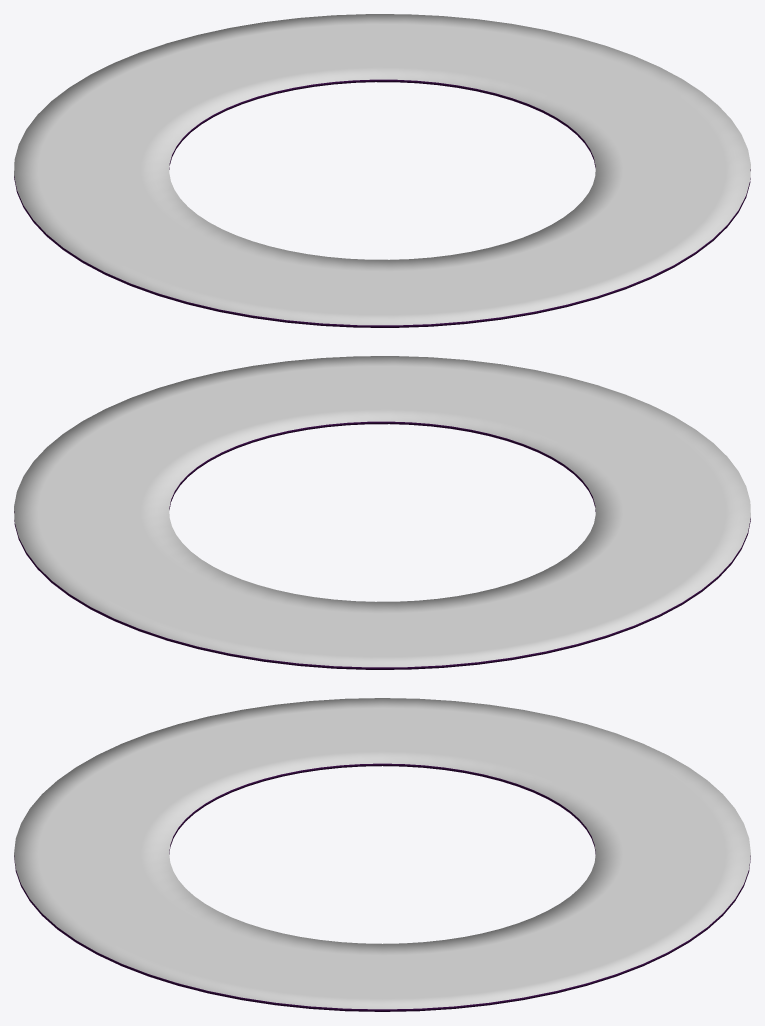
File: Proyecto - Anillo (mapa).fbx
3 views of the same model, one above another, from view 1: azimuth 30°, elevation 25°; view 2: azimuth 150°, elevation 25°; view 3: azimuth 270°, elevation 25° (orthographic).
Parts seen in each view (by area): view 1: Anillo 2; view 2: Anillo 2; view 3: Anillo 2.
Boxes of the visible parts, bbox=[...] form: Anillo 2: bbox=[14, 14, 750, 327]; Anillo 2: bbox=[14, 356, 750, 669]; Anillo 2: bbox=[14, 698, 750, 1011].
Bounding box in the file's own units: 18236 × 68.91 × 18236.
